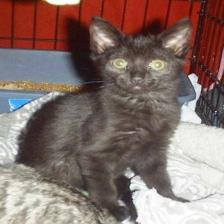cat: (87, 12, 201, 108)
